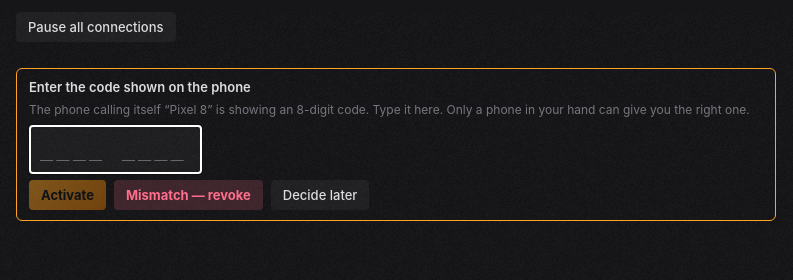
Test: SettingsMobileTab › a code that does not match this desktop's gets its own warning, not the generic failure copy
This screenshot has width=793, height=280.
In the field with test id "pairing-sas-input": (115, 149) [29,125,202,174], type "0000 0000"
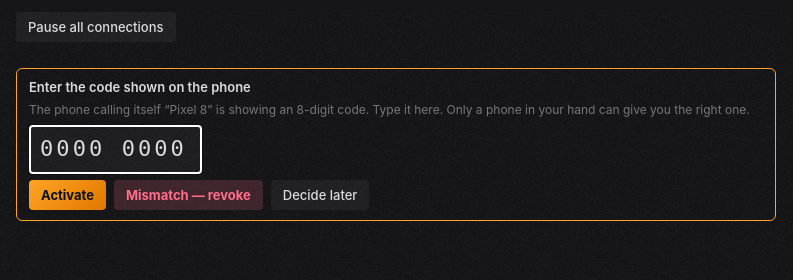
Click the button "Activate": click(67, 195) [29,180,106,210]
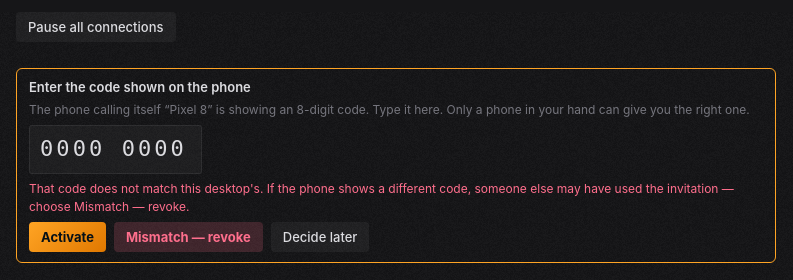
expect the text "does not match" is shown: met, box [29,181,734,214]
expect the text "someone else may have used the invitation" is shown: met, box [29,181,734,214]
expect the text "Mismatch — revoke" is shown: met, box [29,181,734,214]
